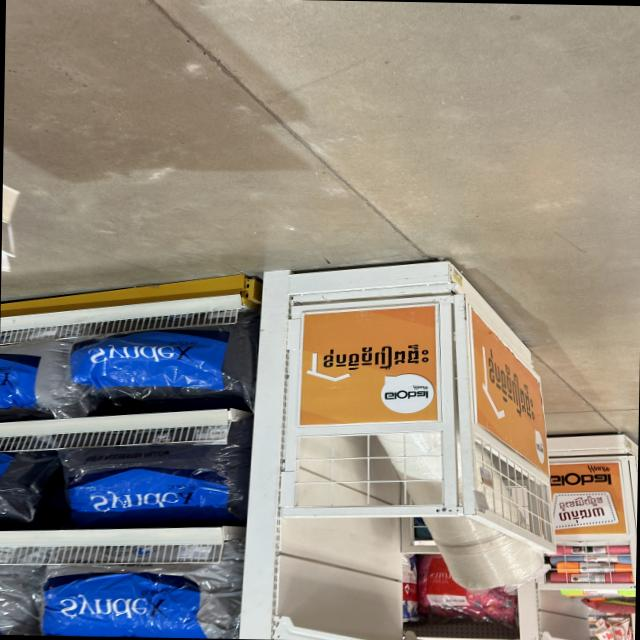Yolov11_80vkh: (316, 342, 432, 376)
